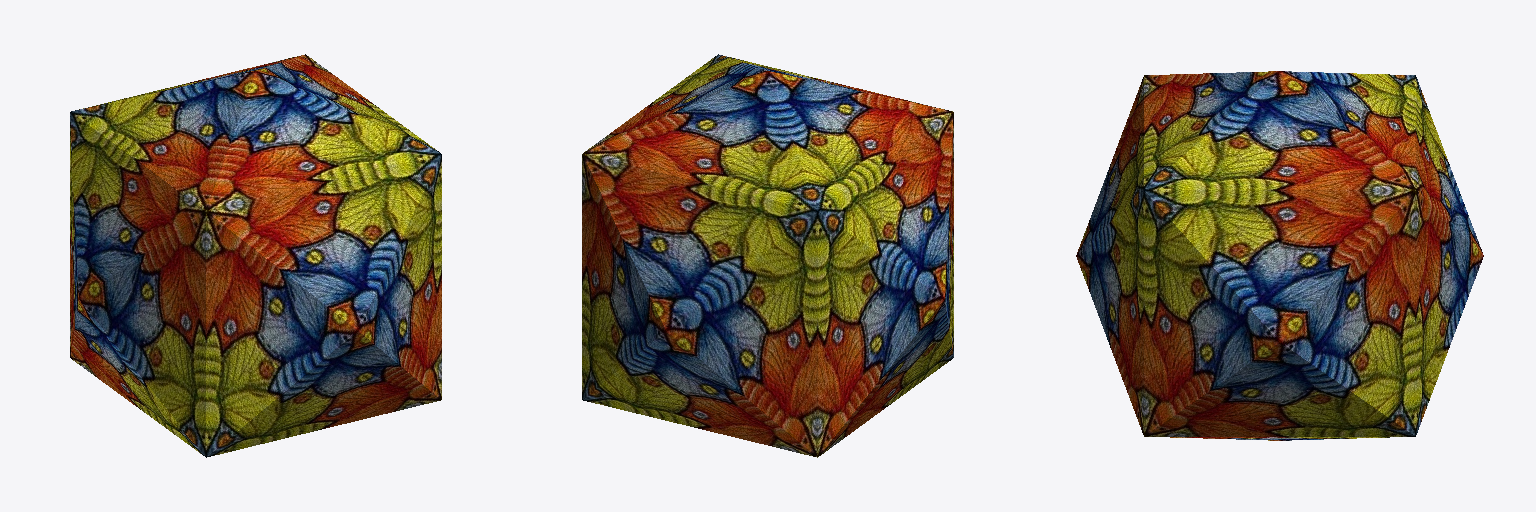
3 views of the same model, side by side, from view 1: azimuth 30°, elevation 25°; view 2: azimuth 150°, elevation 25°; view 3: azimuth 270°, elevation 25° (orthographic).
Size of the model in its own units: 3.18 by 3.18 by 3.18.
Materials: 1 (1 with a texture image).